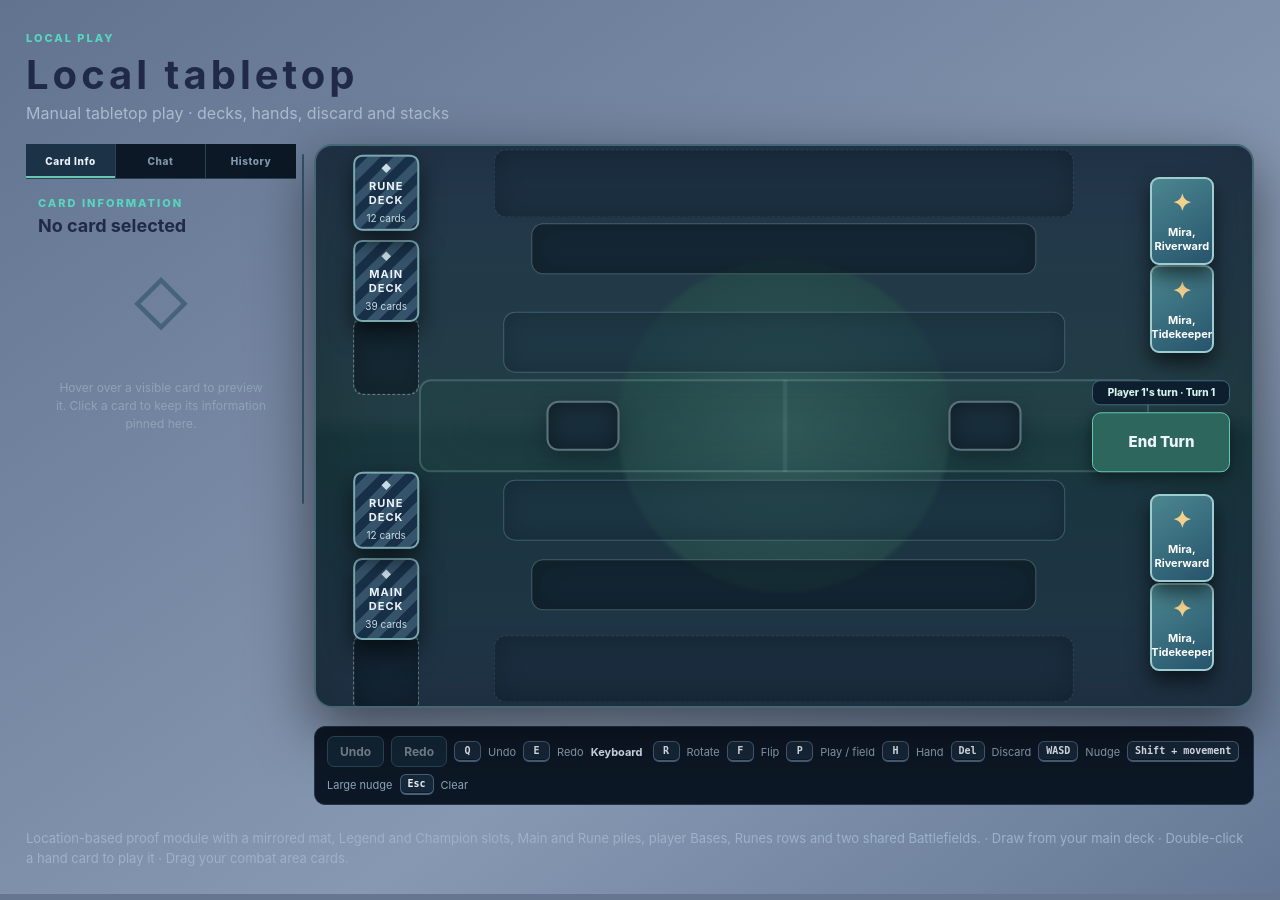
it: manual turns › requires confirmation before switching the local board perspective
Expected: the text "Player 1's turn · Turn 1" is shown, [1092, 380, 1230, 405]
Step 1. Click the button "End Turn" → (1162, 442), box [1092, 412, 1230, 472]
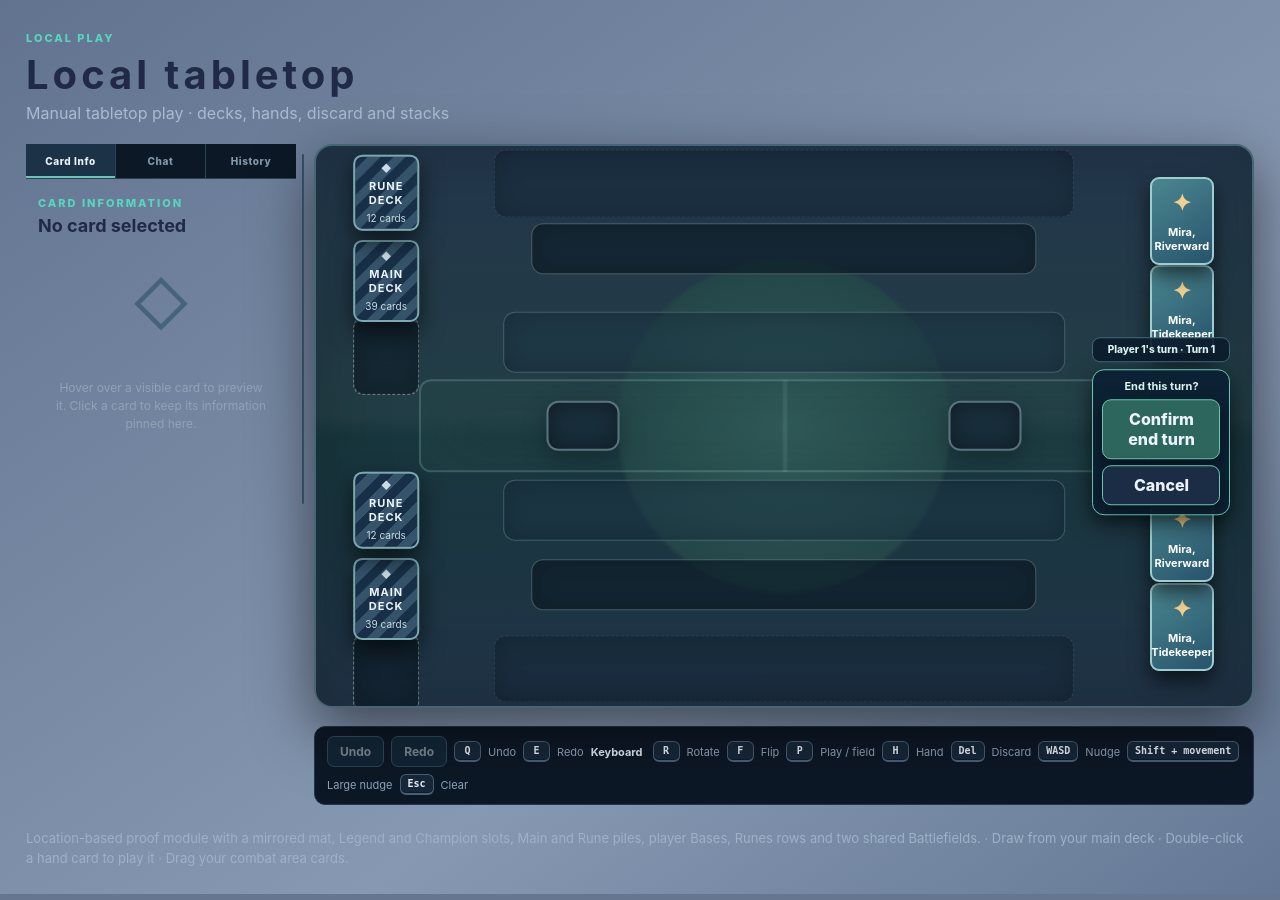
Expected: the text "Player 1's turn · Turn 1" is shown, [1092, 337, 1230, 362]
Step 2. Click the button "Cancel" → (1162, 485), box [1102, 465, 1220, 505]
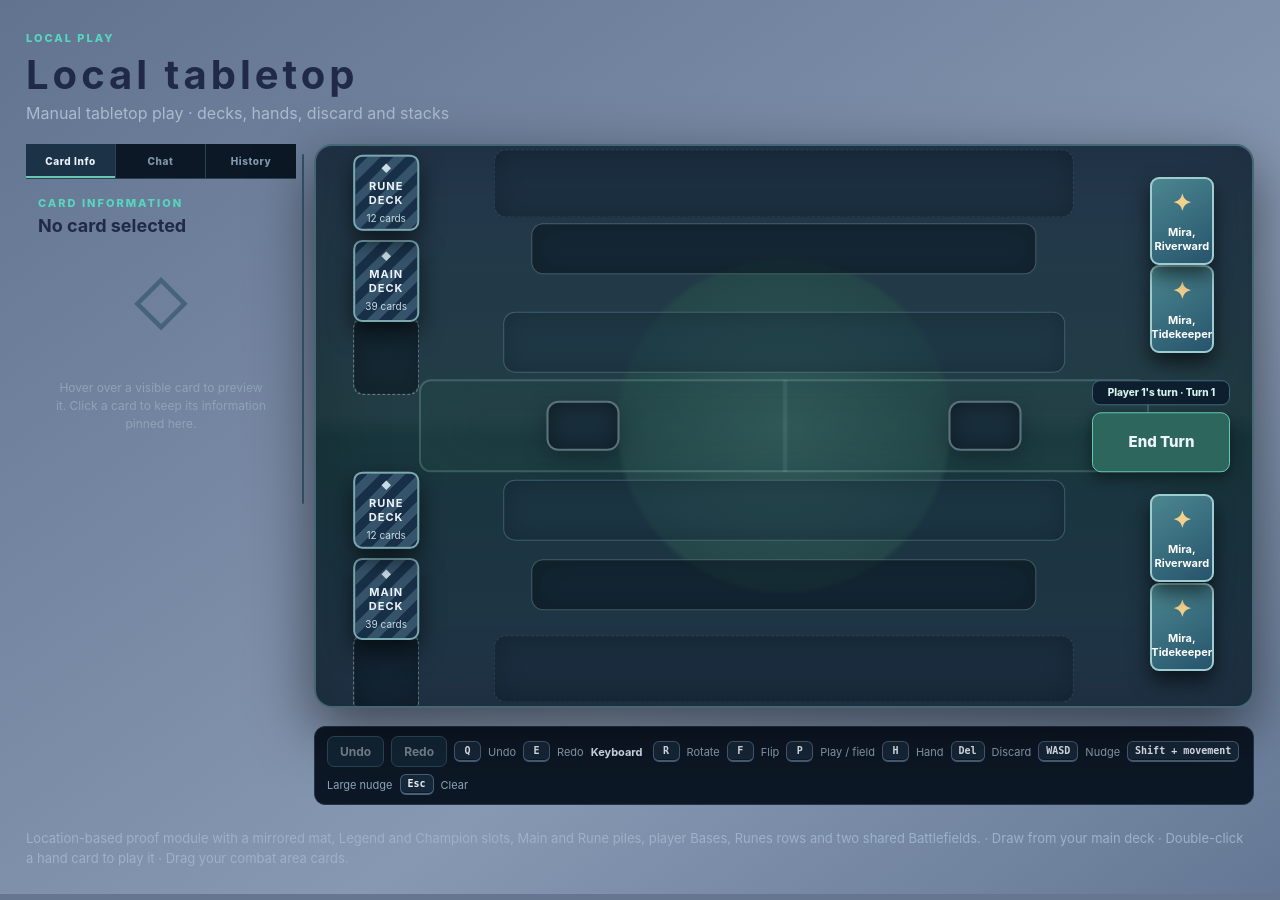
Expected: the text "Player 1's turn · Turn 1" is shown, [1092, 380, 1230, 405]
Step 3. Click the button "End Turn" → (1162, 442), box [1092, 412, 1230, 472]
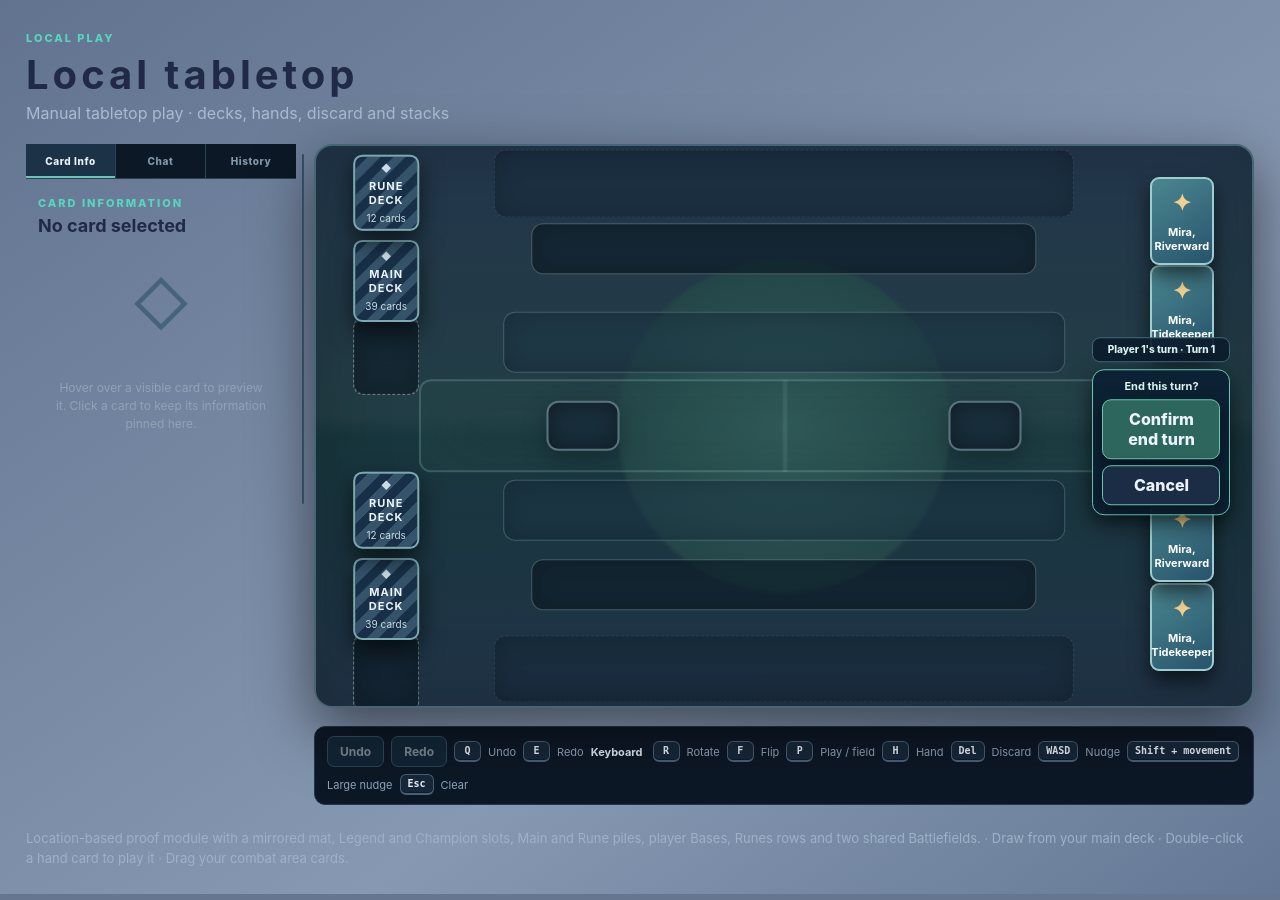
Step 4. Click the button "Confirm end turn" → (1162, 429), box [1102, 399, 1220, 459]
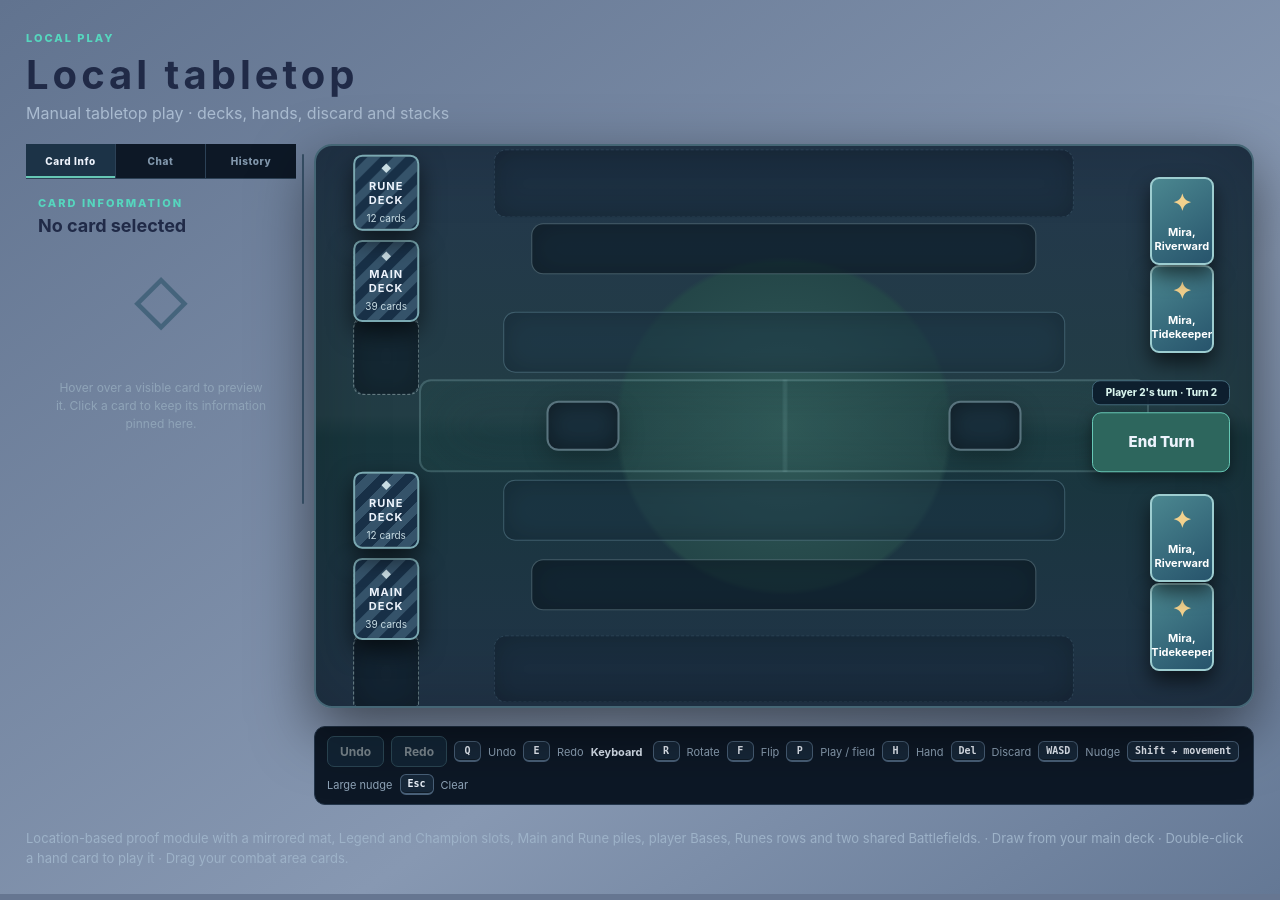
Result: the text "Player 2's turn · Turn 2" is shown at [1092, 380, 1230, 405]
